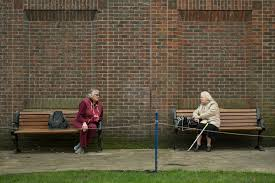Good: (72, 88, 221, 154)
